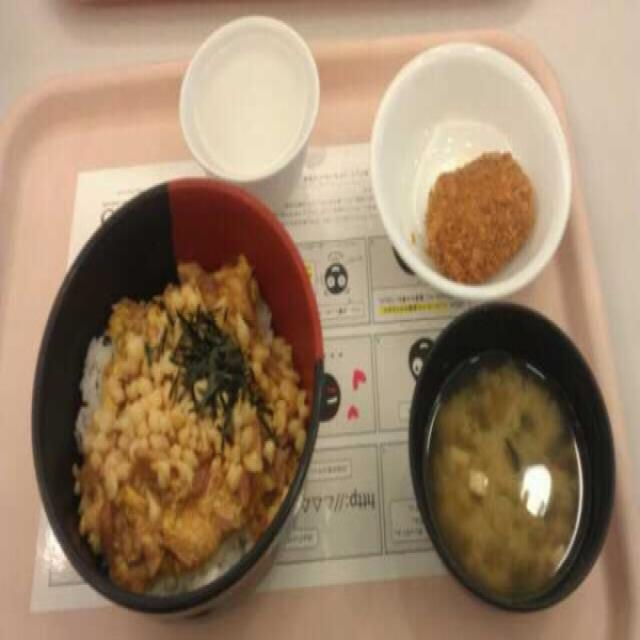汤锅炖物: (416, 306, 622, 622)
炸货点心: (364, 34, 572, 298)
